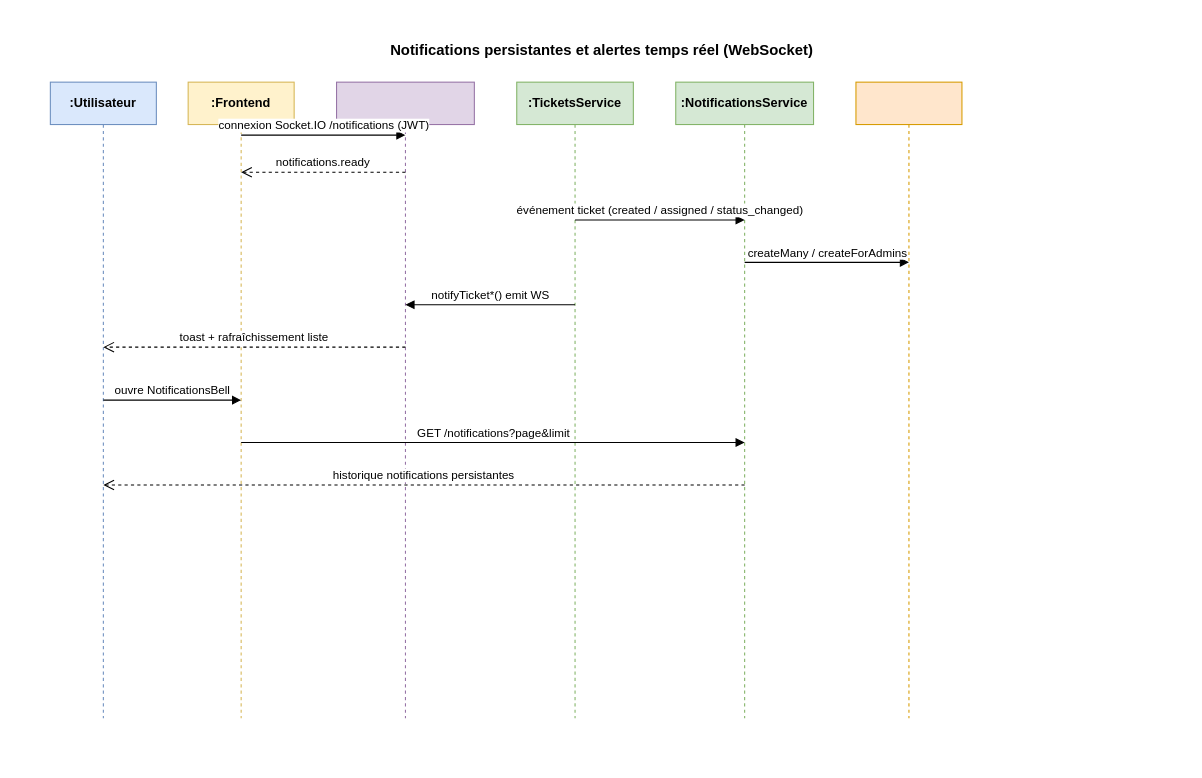
Image size: 1202x778. Some labels were removed from this diagram. The shapes that lost their labels are listed below. From the top down, each one's box as (x1, y1, x2, y2) in pixels, then its label:
(335, 81, 474, 718): :TicketsNotifications Gateway
(855, 81, 962, 718): :MongoDB
